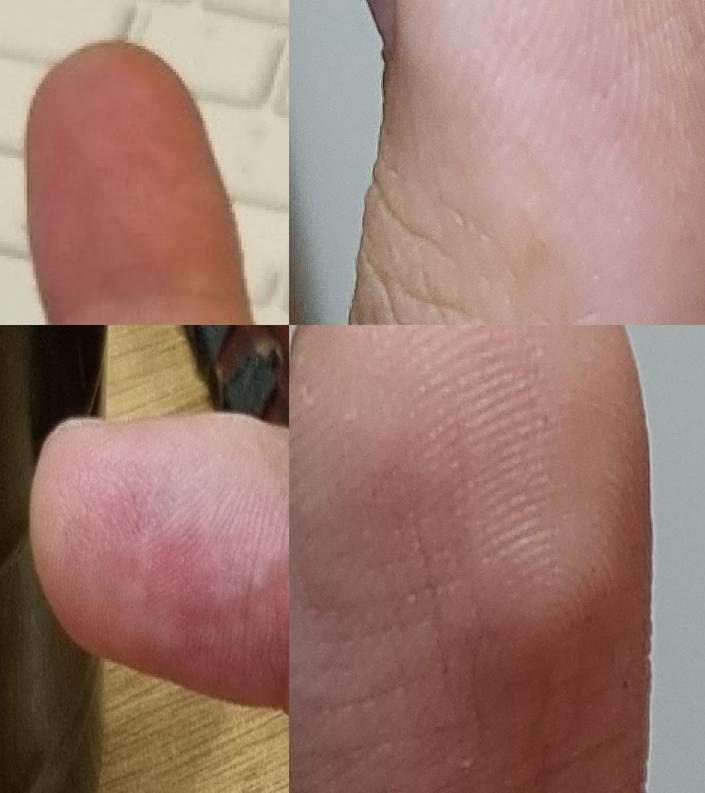Fingerprints: (290, 325, 654, 792), (30, 415, 289, 711), (27, 41, 249, 325)
